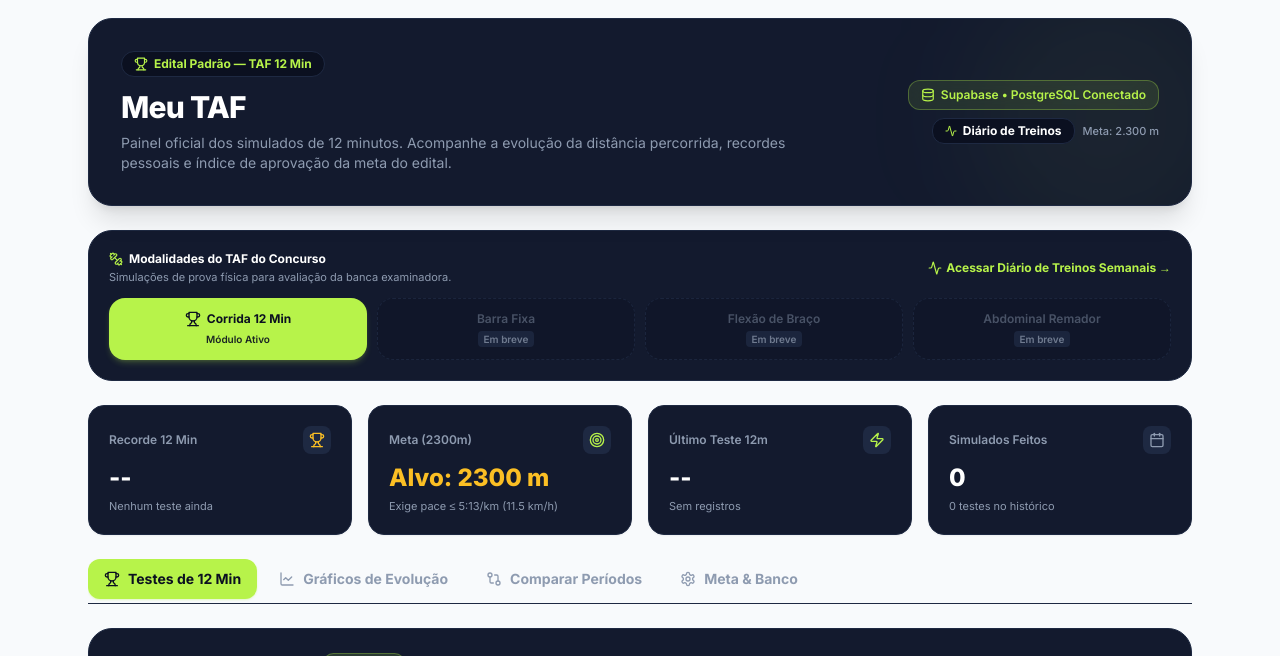
MeuTafPage - Fase F (Comparador de Períodos & Configuração de Meta / Backup) › Configuração de Meta & Central de Backup › executa teste de conexão com o banco Supabase
This screenshot has width=1280, height=656.
Click the button "Meta & Banco": [739, 579] box [664,559,814,599]
(page scrolled)
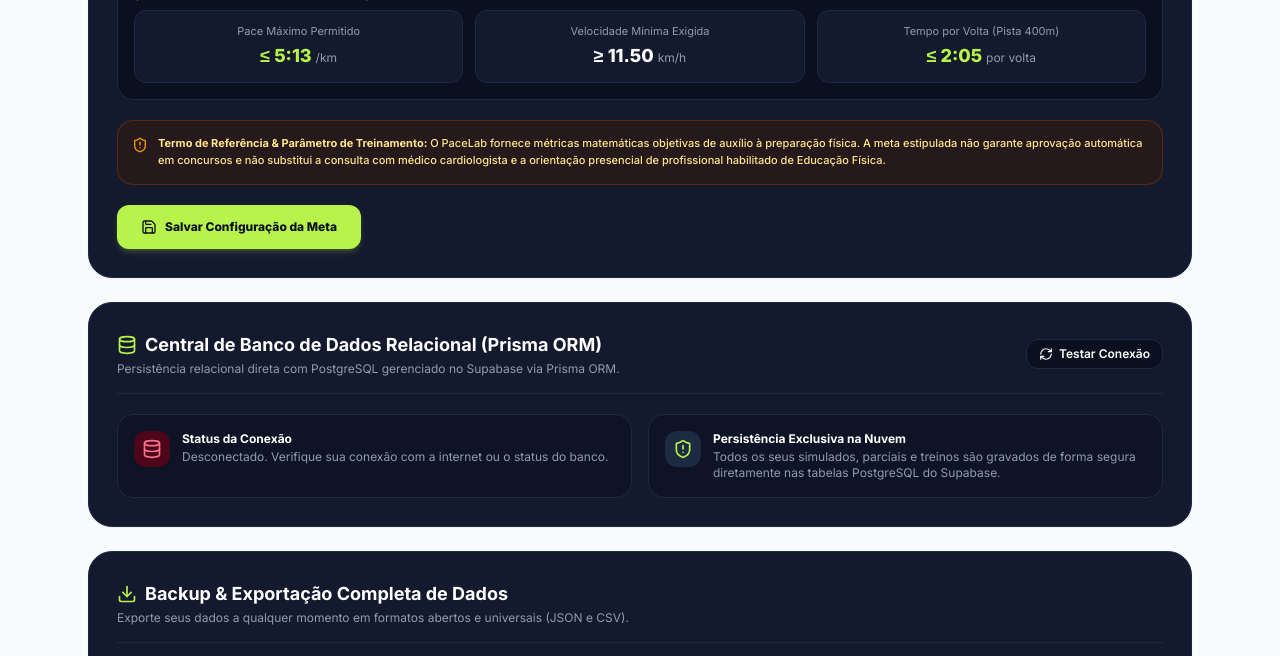
Click the button "Testar Conexão": [1094, 354] box [1026,339,1163,369]
(page scrolled)
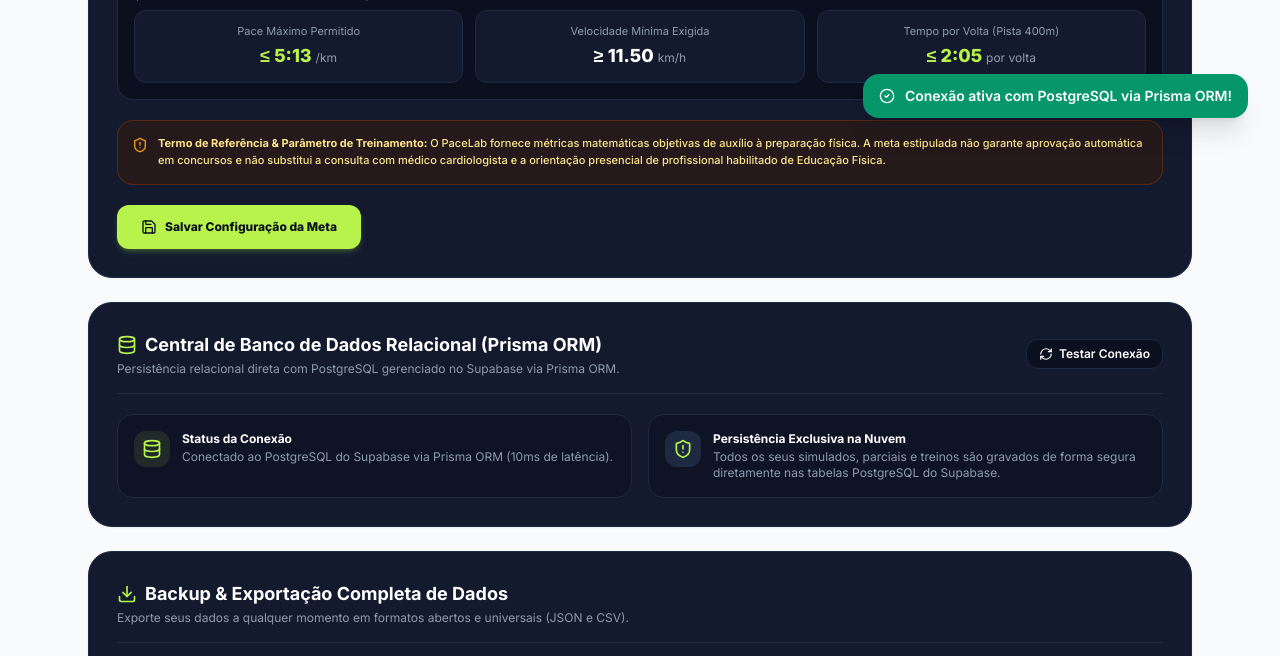
Expected: the element with test id "toast-notification" reads "Conexão ativa com PostgreSQL via Prisma ORM!", [905,87,1232,104]
